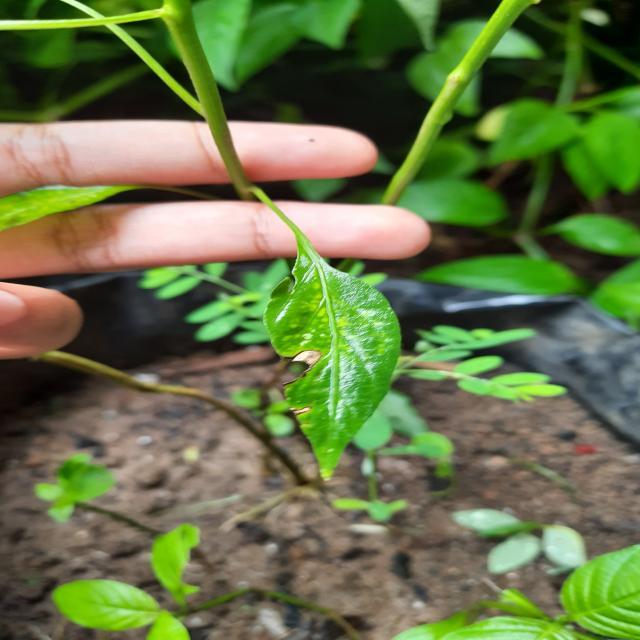bercak_daun: (230, 248, 432, 485)
